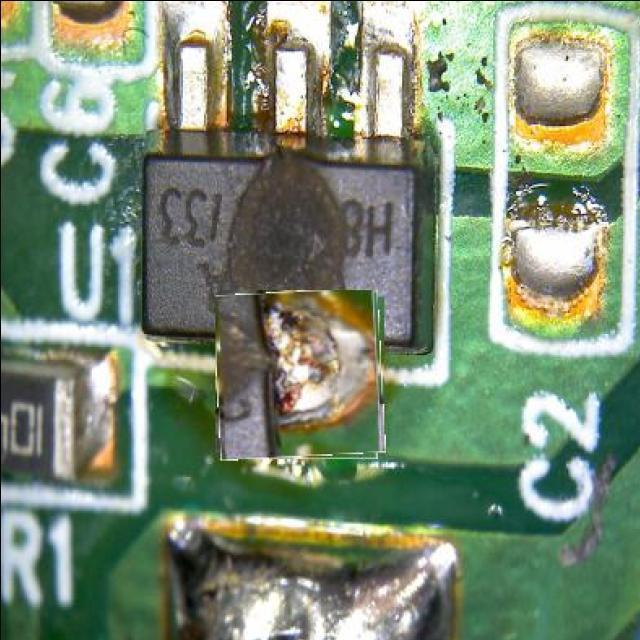Burn: (214, 289, 382, 457)
